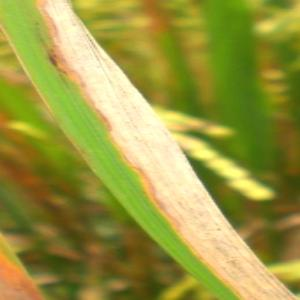2 BacterialBlight: (65, 26, 209, 261)
